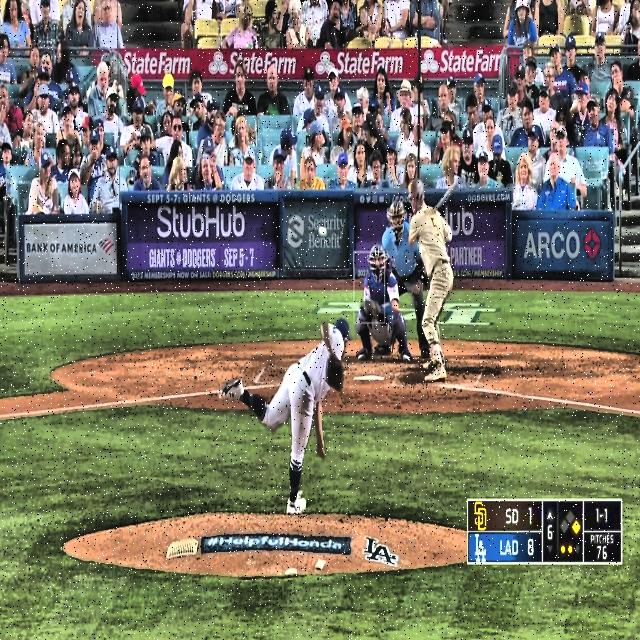baseball: (319, 226, 326, 237)
